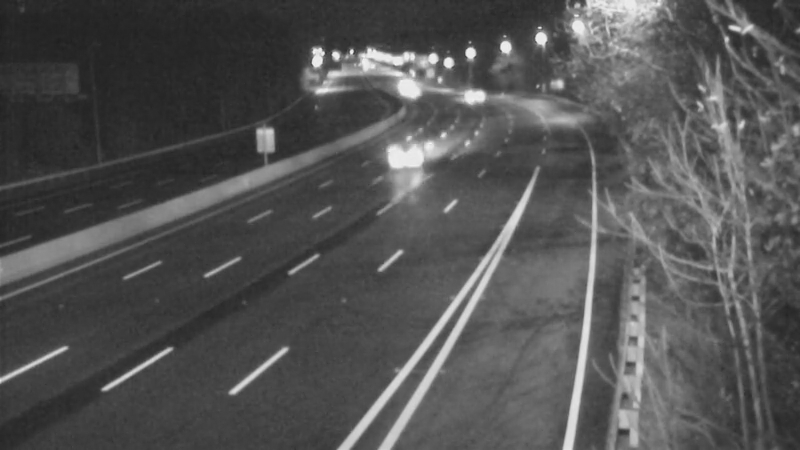vehicle: (367, 119, 447, 199), (383, 63, 433, 113), (381, 63, 431, 113), (434, 67, 484, 117)
